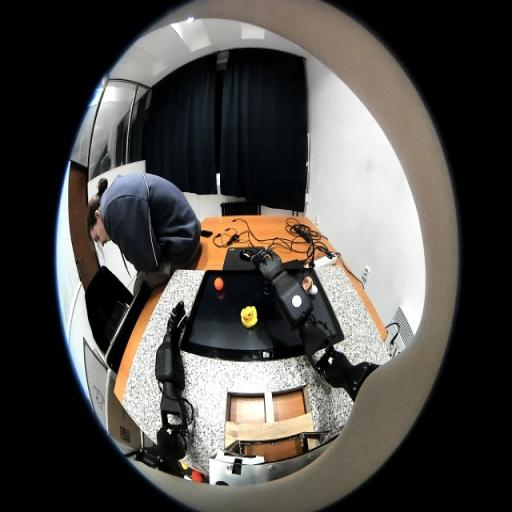Duck: (241, 306, 258, 328)
LeftHand: (167, 320, 181, 337)
Mushroom: (302, 275, 318, 295)
Orange: (214, 278, 224, 290)
RightHand: (262, 258, 282, 275)
